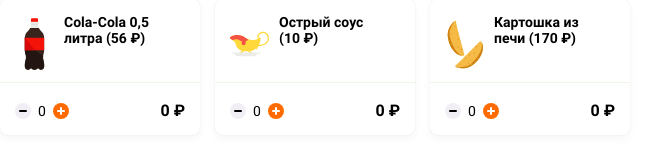
Test: CartMiscList.vue › change price on misc increase and decrease
The width and height of the screenshot is (647, 160).
Click the 1st button with test id "increase" at (61, 110), box [53, 102, 69, 118]
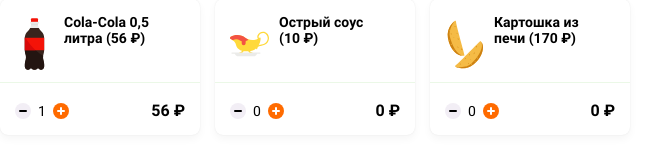
Expected: the element with test id "price" below "Острый соус (10 ₽)" reads "0 ₽", [376, 101, 400, 120]
Expected: the element with test id "price" reads "56 ₽", [151, 101, 185, 120]
Click the 2nd button with test id "increase" at (276, 110), box [268, 102, 284, 118]
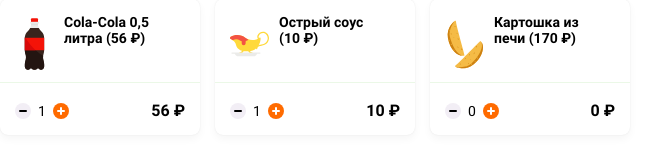
Expected: the element with test id "price" reads "0 ₽", [590, 101, 615, 120]
Expected: the element with test id "price" reads "56 ₽", [151, 101, 185, 120]
Click the 1st button with test id "decrease" at (23, 110), box [15, 102, 31, 118]
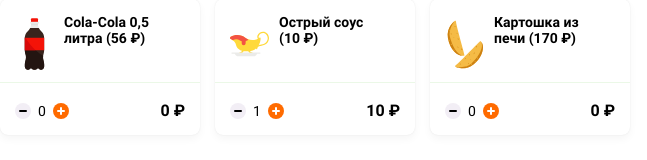
Expected: the element with test id "price" below "Картошка из печи (170 ₽)" reads "0 ₽", [590, 101, 615, 120]
Expected: the element with test id "price" below "Cola-Cola 0,5 литра (56 ₽)" reads "0 ₽", [160, 101, 185, 120]
